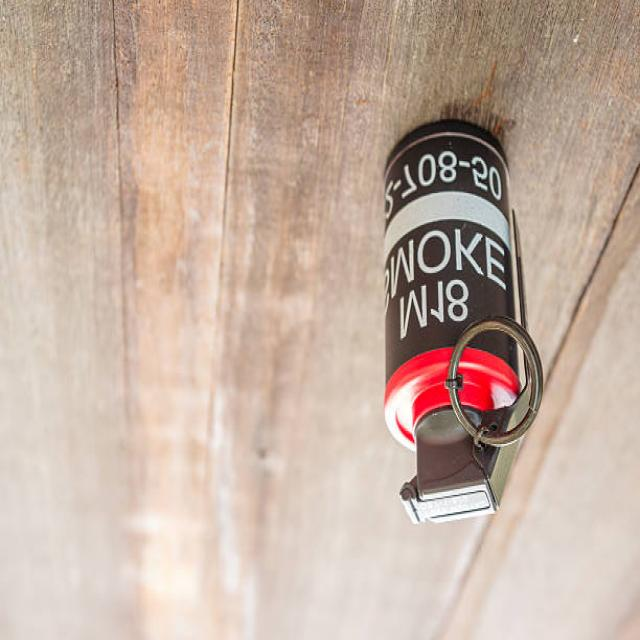grenade: (382, 115, 548, 536)
